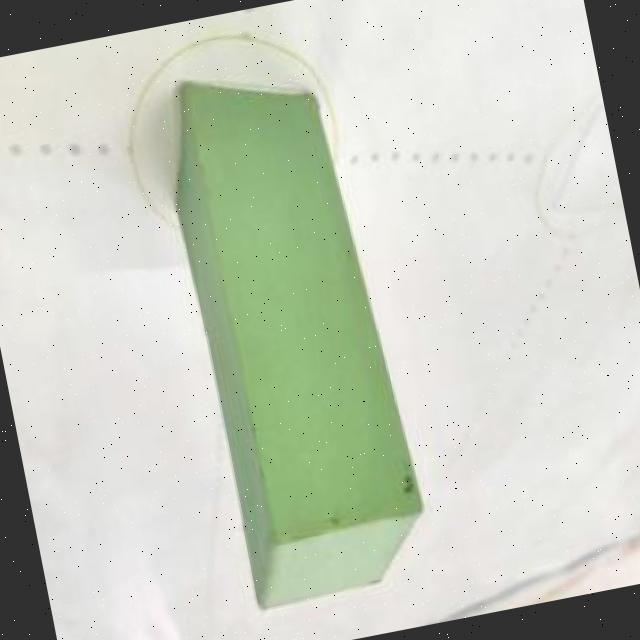greenbox: (146, 47, 440, 616)
